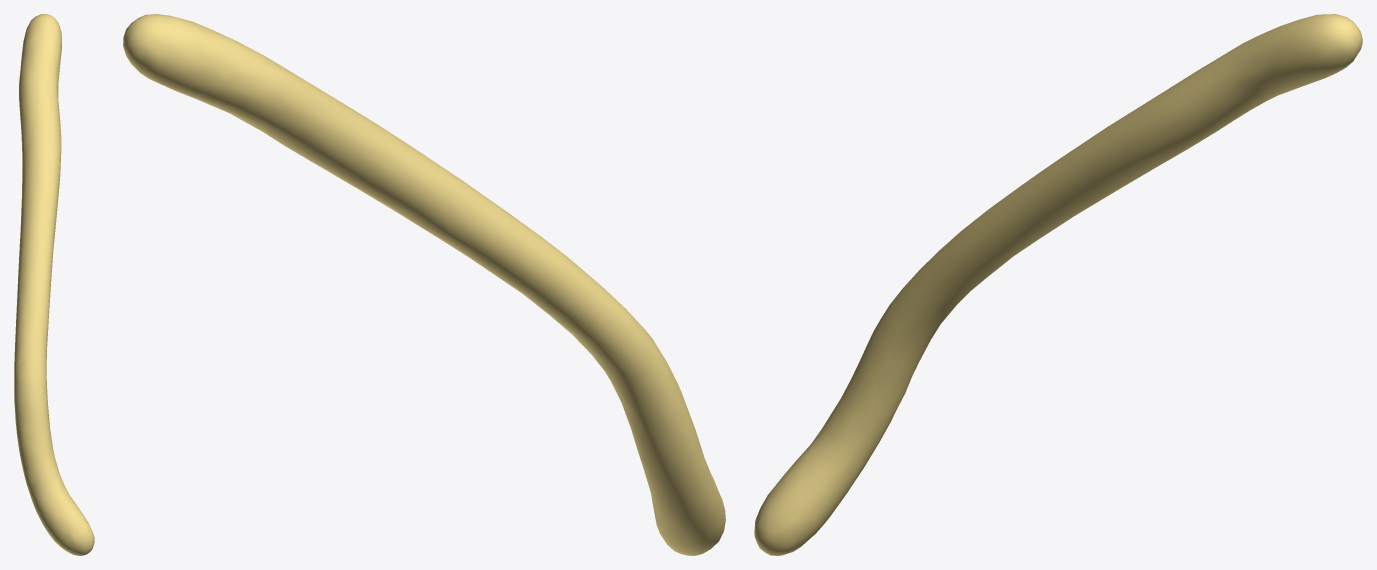
Rendered from fma50892_mm2641m.glb.
The picture shows the model from 3 angles, left to right: view 1: azimuth 30°, elevation 25°; view 2: azimuth 150°, elevation 25°; view 3: azimuth 270°, elevation 25°; orthographic projection. The views are drawn at different scales.
Visible parts, largest first — view 1: FMA50892_MM2641M; view 2: FMA50892_MM2641M; view 3: FMA50892_MM2641M.
Part boxes in pixels (bbox=[...]): FMA50892_MM2641M: bbox=[14, 14, 94, 555]; FMA50892_MM2641M: bbox=[123, 14, 725, 555]; FMA50892_MM2641M: bbox=[754, 14, 1362, 555].
Size of the model in its own units: 0.00859 by 0.0181 by 0.0155.
